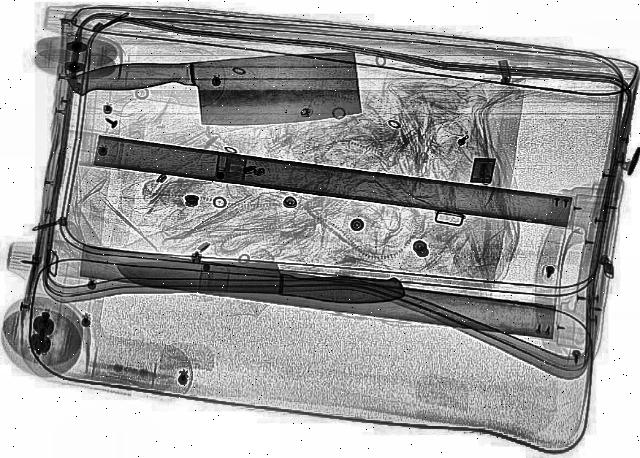Knife: (63, 47, 369, 129), (110, 242, 410, 316)
